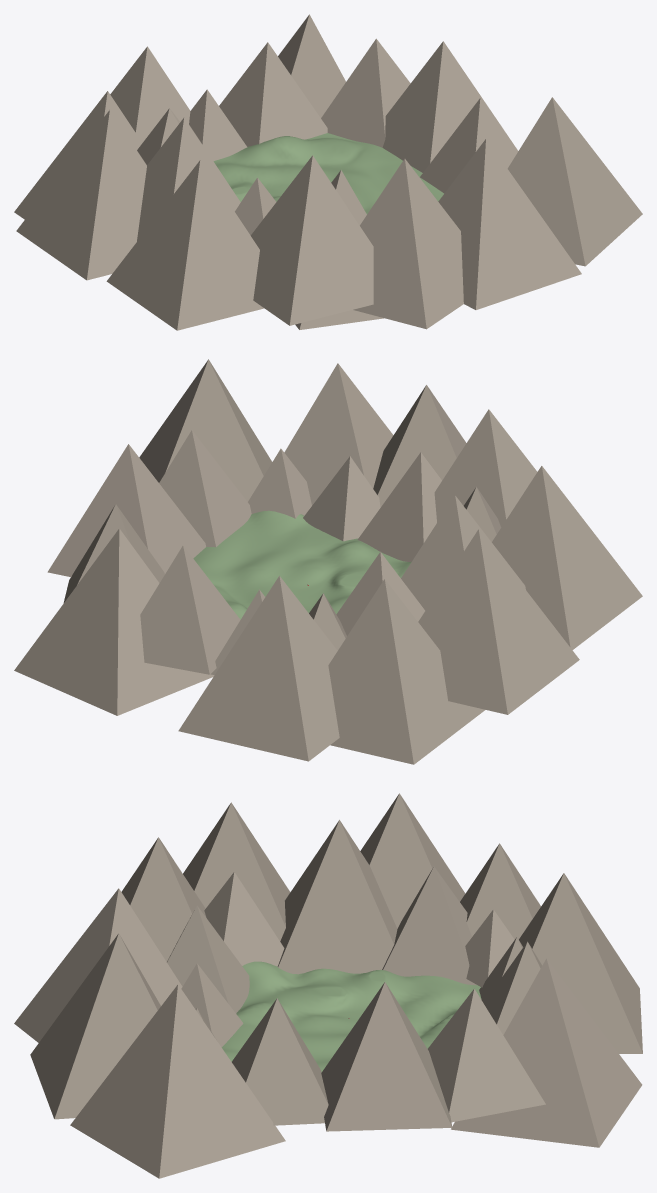
3 views of the same model, one above another, from view 1: azimuth 30°, elevation 25°; view 2: azimuth 150°, elevation 25°; view 3: azimuth 270°, elevation 25° (orthographic). The views are drawn at different scales.
Parts seen in each view (by area): view 1: pPyramid13, pPyramid14, pPyramid16, pPyramid17, pPyramid15, pPyramid21, pPlane1, pPyramid1, pPyramid3, pPyramid4, pPyramid12, pPyramid19 (+7 smaller); view 2: pPyramid19, pPyramid17, pPyramid18, pPyramid20, pPyramid13, pPlane1, pPyramid3, pPyramid21, pPyramid1, pPyramid16, pPyramid14, pPyramid2 (+10 smaller); view 3: pPyramid21, pPyramid20, pPlane1, pPyramid1, pPyramid12, pPyramid16, pPyramid19, pPyramid4, pPyramid2, pPyramid15, pPyramid11, pPyramid13 (+9 smaller).
Part boxes in pixels (left/top/right/bottom): pPyramid13: left=106, top=160, right=264, bottom=330; pPyramid14: left=250, top=155, right=373, bottom=325; pPyramid16: left=438, top=139, right=581, bottom=309; pPyramid17: left=16, top=110, right=146, bottom=280; pPyramid15: left=353, top=158, right=463, bottom=329; pPyramid21: left=507, top=97, right=642, bottom=266; pPlane1: left=213, top=133, right=443, bottom=214; pPyramid1: left=382, top=41, right=518, bottom=172; pPyramid3: left=219, top=42, right=327, bottom=146; pPyramid4: left=321, top=38, right=410, bottom=147; pPyramid12: left=137, top=117, right=240, bottom=241; pPyramid19: left=110, top=46, right=190, bottom=142; pPyramid19: left=178, top=576, right=339, bottom=761; pPyramid17: left=418, top=529, right=579, bottom=714; pPyramid18: left=328, top=579, right=485, bottom=764; pPyramid20: left=14, top=528, right=214, bottom=715; pPyramid13: left=492, top=466, right=642, bottom=649; pPlane1: left=193, top=510, right=411, bottom=619; pPyramid3: left=140, top=545, right=240, bottom=674; pPyramid21: left=139, top=359, right=272, bottom=501; pPyramid1: left=47, top=444, right=205, bottom=576; pPyramid16: left=284, top=363, right=393, bottom=505; pPyramid14: left=434, top=409, right=537, bottom=527; pPyramid2: left=159, top=430, right=251, bottom=547; pPyramid21: left=70, top=984, right=285, bottom=1178; pPyramid20: left=451, top=958, right=642, bottom=1147; pPlane1: left=221, top=961, right=481, bottom=1071; pPyramid1: left=321, top=982, right=452, bottom=1131; pPyramid12: left=277, top=820, right=397, bottom=974; pPyramid16: left=30, top=933, right=160, bottom=1119; pPyramid19: left=519, top=873, right=642, bottom=1053; pPyramid4: left=428, top=988, right=545, bottom=1122; pPyramid2: left=232, top=998, right=328, bottom=1125; pPyramid15: left=14, top=888, right=182, bottom=1042; pPyramid11: left=382, top=866, right=476, bottom=985; pPyramid13: left=183, top=802, right=290, bottom=941.
Size of the model in its own units: 454 by 146 by 447.
